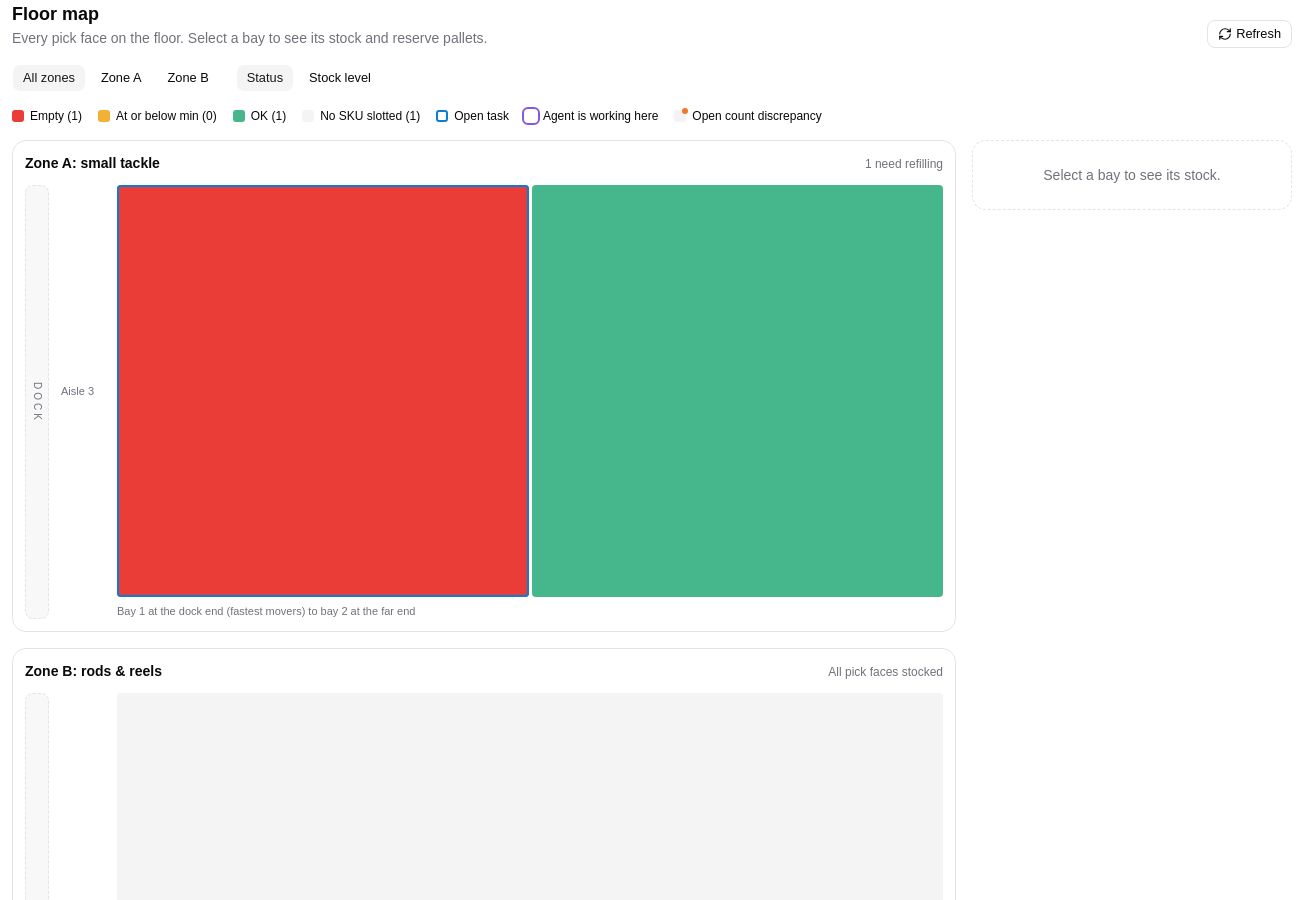
Test: FloorMapPage › shows a bay’s stock when clicked
Click the button named "A-03-04-1" at (323, 391), box [117,185,528,596]
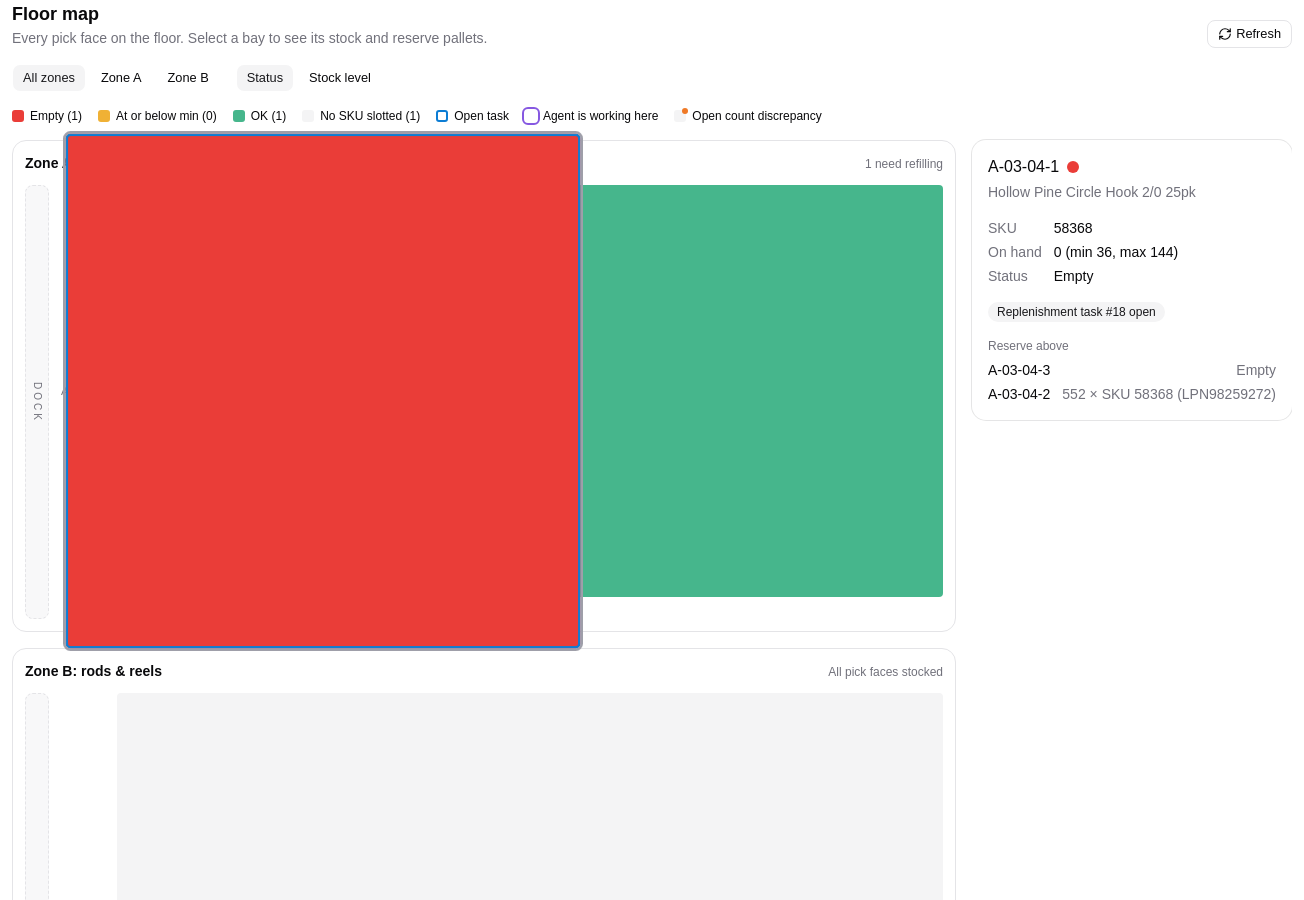
Check: the text "Hollow Pine Circle Hook 2/0 25pk" is shown, box [988,184,1196,200]
Check: the text "0 (min 36, max 144)" is shown, box [1054,244,1178,260]
Check: the text "Replenishment task #18 open" is shown, box [988,302,1165,322]
